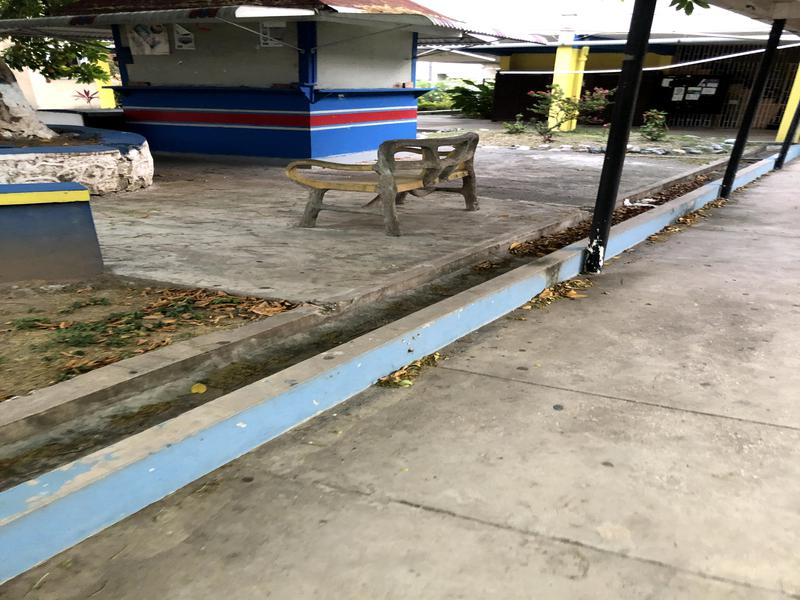18.0050864_-76.7496363_bench: (282, 124, 489, 258)
